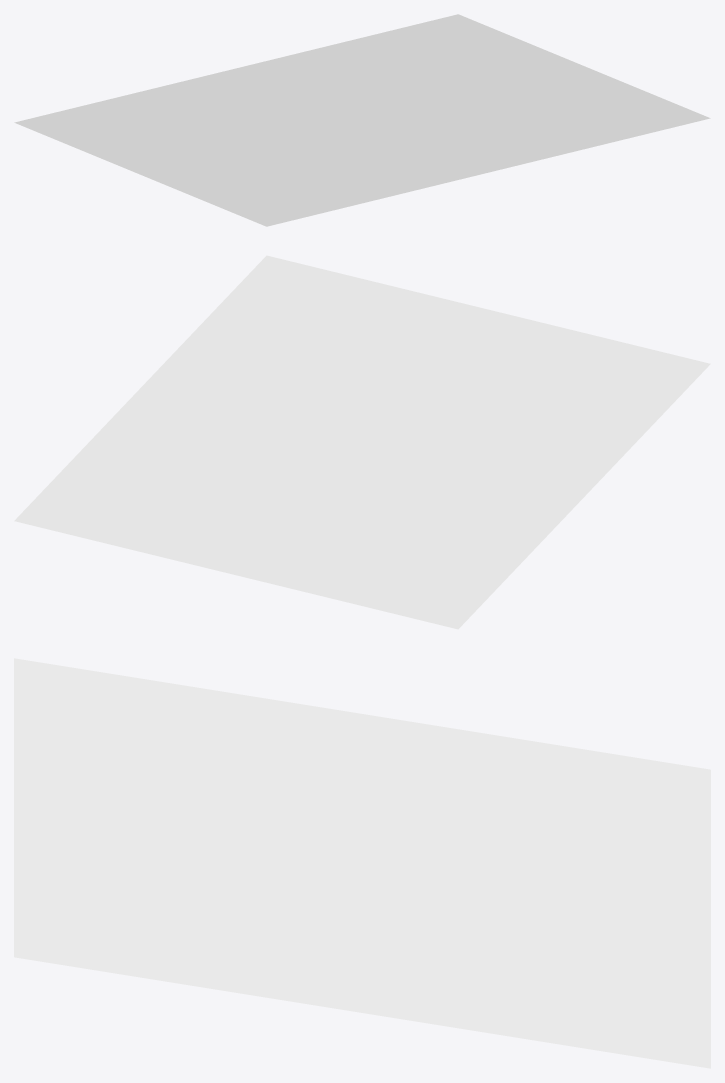
Rendered from CoinLandingAnim.fbx.
The picture shows the model from 3 angles, top to bottom: view 1: azimuth 30°, elevation 25°; view 2: azimuth 150°, elevation 25°; view 3: azimuth 270°, elevation 25°; orthographic projection. The views are drawn at different scales.
Visible parts, largest first — view 1: Ring; view 2: Ring; view 3: Ring.
Boxes of the visible parts, left/top/right/bottom form: Ring: left=14, top=14, right=710, bottom=226; Ring: left=14, top=255, right=710, bottom=629; Ring: left=14, top=658, right=710, bottom=1068.
Size of the model in its own units: 3.21 by 0.557 by 3.16.
